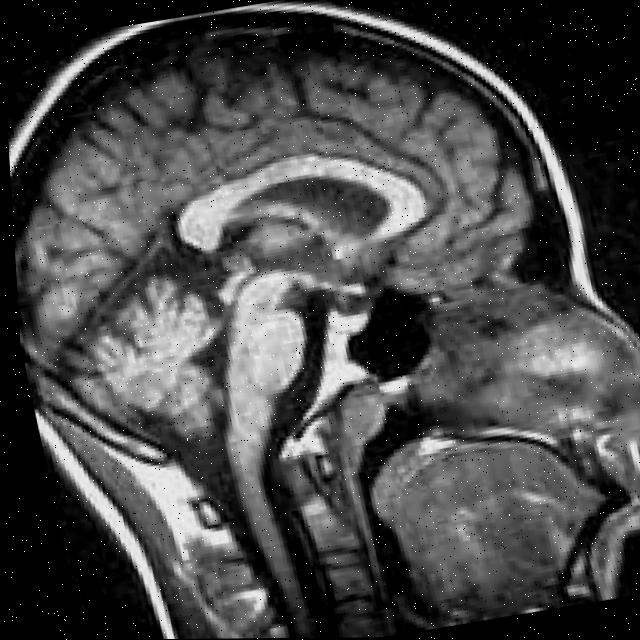NoTumor: (0, 0, 621, 463)
